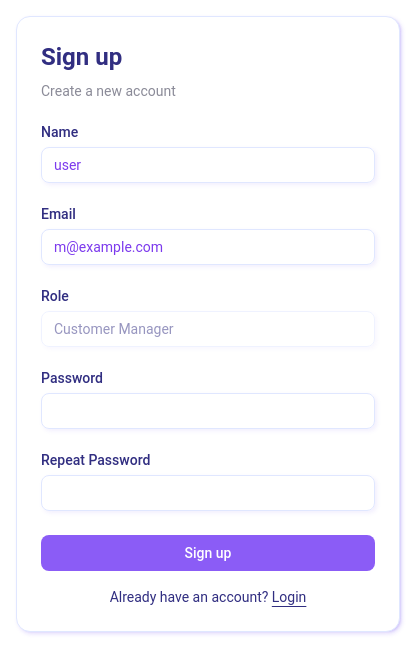
Scenario: SignupPage with Invite Token › Show signup with valid token
Check: the field labelled "Role" holds "Customer Manager", box [41,311,375,347]
Type "new-manager" into the field labelled "Name" at (208, 165), box [41,147,375,183]
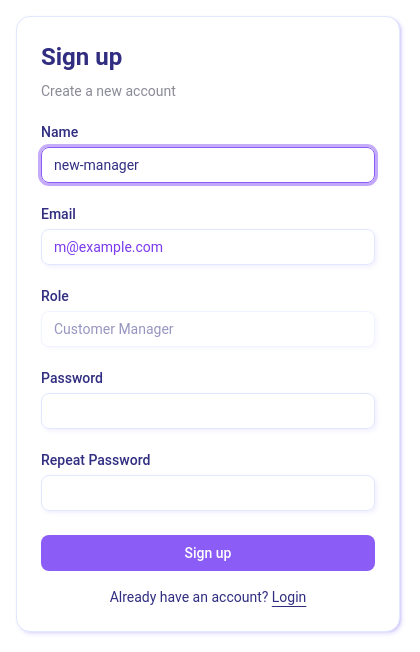
Type "new-manager@test.com" into the field labelled "Email" at (208, 247), box [41,229,375,265]
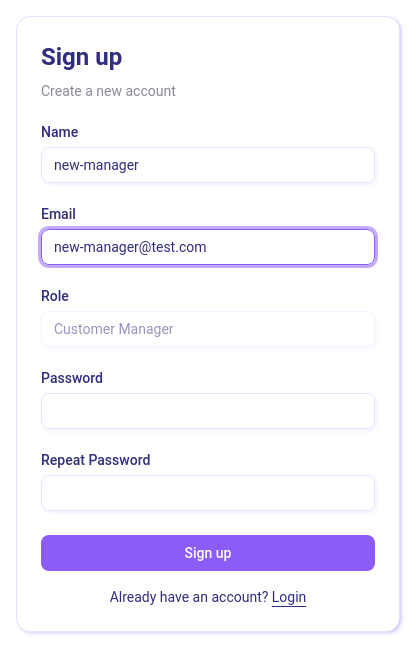
Type "123456" into the password field labelled "Password" at (208, 411), box [41,393,375,429]
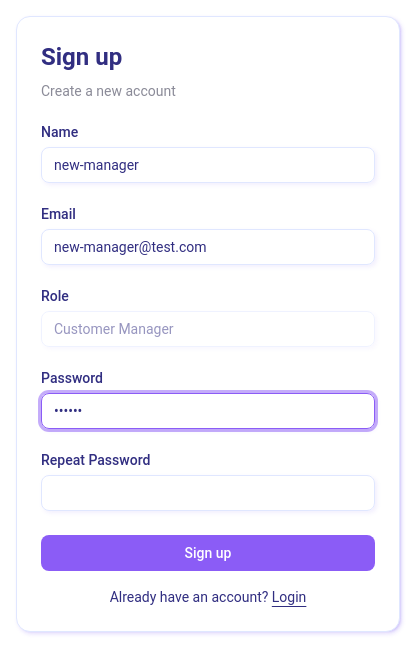
Type "123456" into the password field labelled "Repeat Password" at (208, 493), box [41,475,375,511]
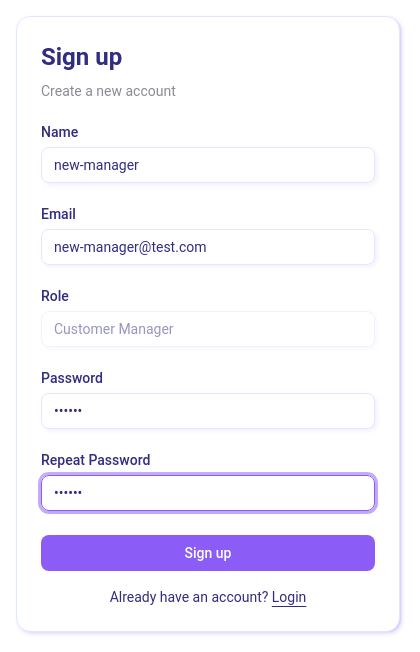
Click the button "Sign up" at (208, 553), box [41,535,375,571]
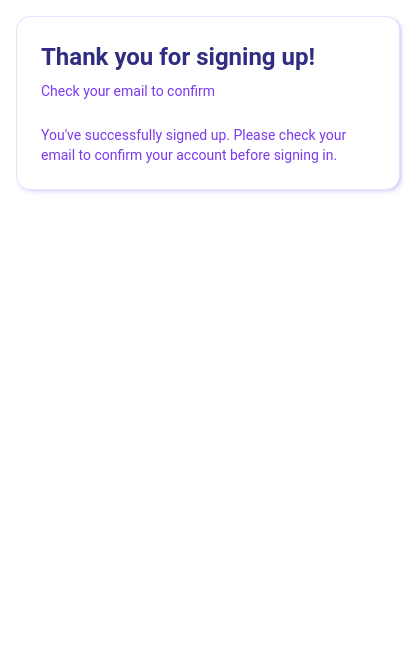
Check: the text "Thank you for signing up!" is shown, box [41,43,315,71]
